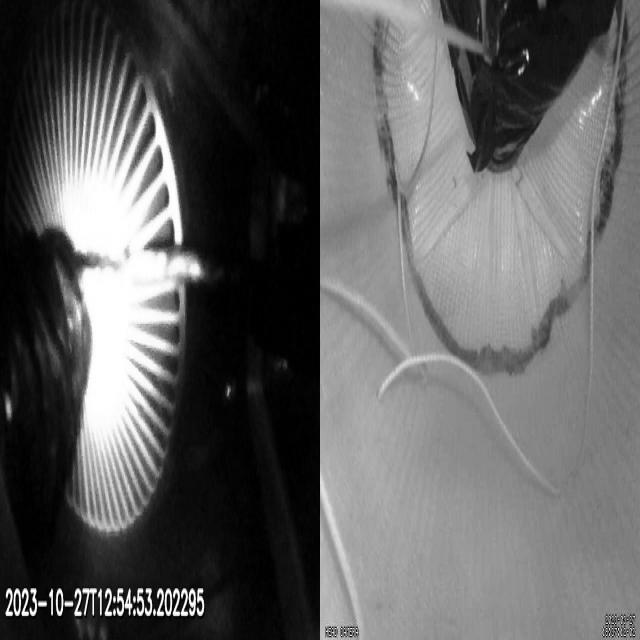red-circle: (373, 0, 629, 381)
